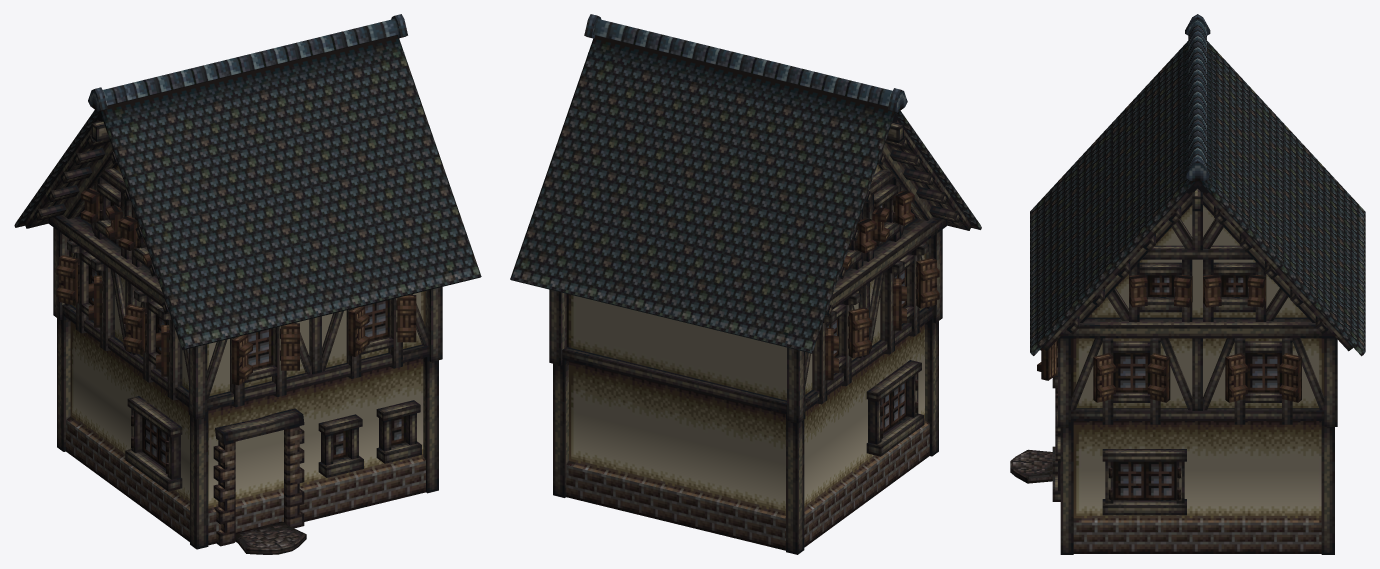
File: EnvBdgMD_Mount_A_Outdoor_House_A.fbx
The picture shows the model from 3 angles, left to right: view 1: azimuth 30°, elevation 25°; view 2: azimuth 150°, elevation 25°; view 3: azimuth 270°, elevation 25°; orthographic projection. The views are drawn at different scales.
Visible parts, largest first — view 1: EnvBdgMD_Mount_A_Outdoor_House_A; view 2: EnvBdgMD_Mount_A_Outdoor_House_A; view 3: EnvBdgMD_Mount_A_Outdoor_House_A.
Part boxes in pixels (box(x1,y1,x2,y2)): EnvBdgMD_Mount_A_Outdoor_House_A: box(14, 14, 481, 554); EnvBdgMD_Mount_A_Outdoor_House_A: box(510, 14, 981, 554); EnvBdgMD_Mount_A_Outdoor_House_A: box(1010, 14, 1365, 554).
Size of the model in its own units: 660 by 856 by 673.
